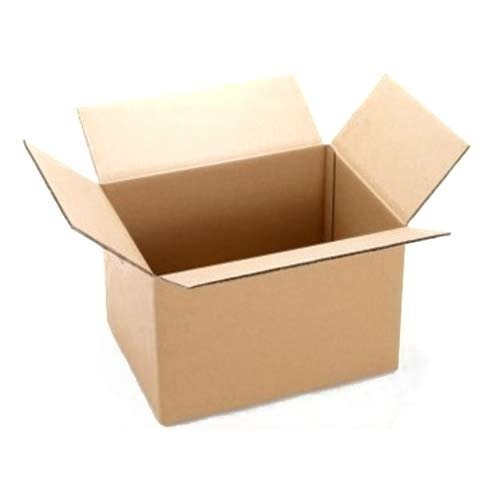Rec_Paper: (17, 79, 468, 416)
